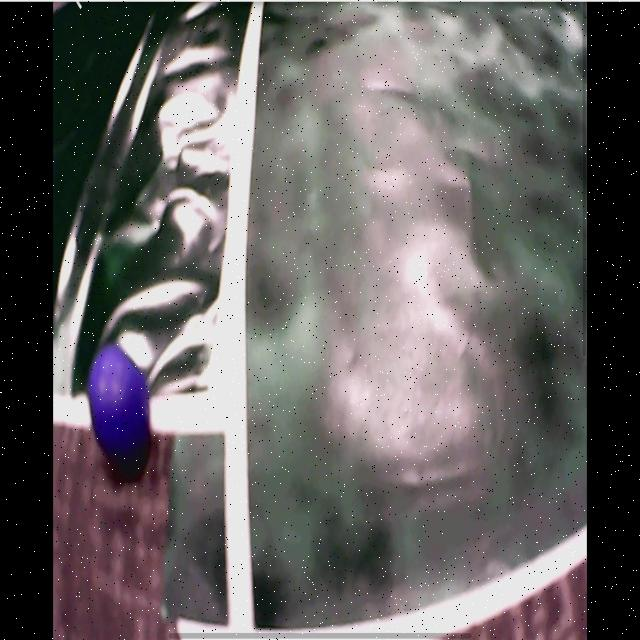ball: (87, 349, 150, 457)
